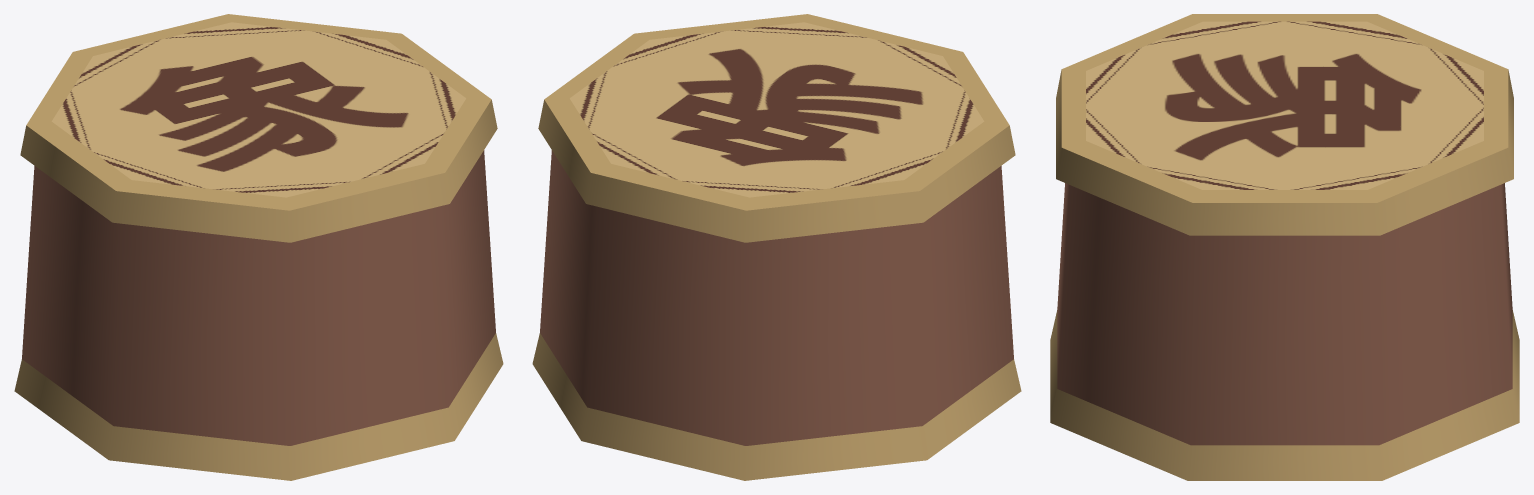
The model's file is Red3.glb.
3 views of the same model, side by side, from view 1: azimuth 30°, elevation 25°; view 2: azimuth 150°, elevation 25°; view 3: azimuth 270°, elevation 25° (orthographic). The views are drawn at different scales.
Visible parts, largest first — view 1: Red3; view 2: Red3; view 3: Red3.
Boxes of the visible parts, box(x1,y1,x2,y2) form: Red3: box(14, 14, 503, 480); Red3: box(532, 14, 1021, 480); Red3: box(1050, 14, 1519, 480).
Bounding box in the file's own units: 0.7668 × 0.497 × 0.7668.
Materials: 3 (1 with a texture image).
